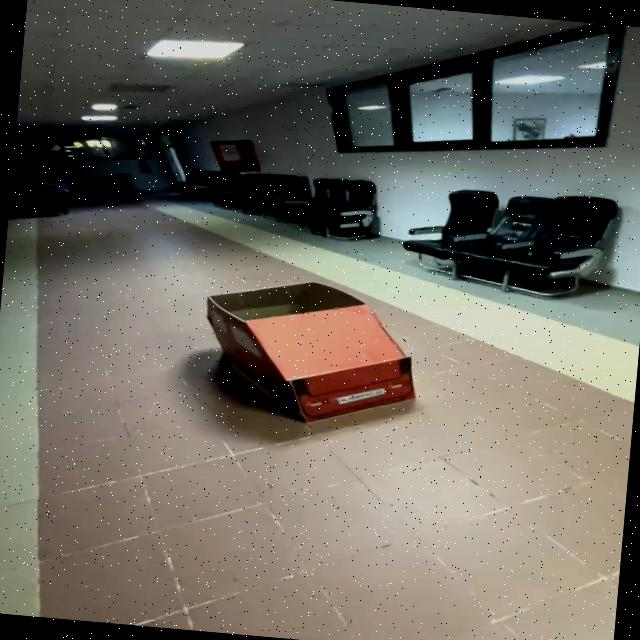red_car: (158, 258, 440, 444)
